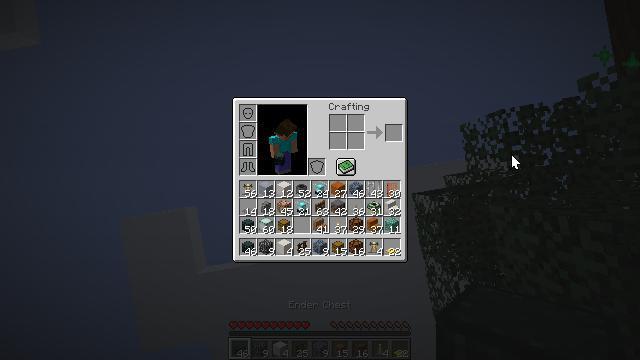cursor: (511, 154, 521, 170)
